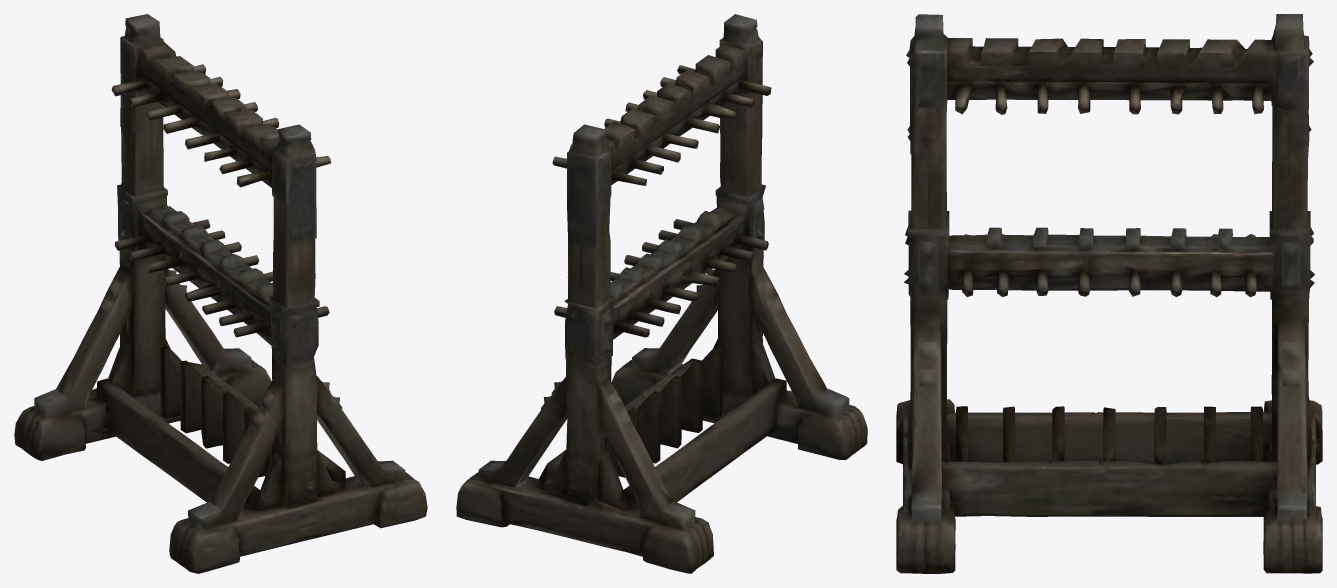
The model's file is empty-weapon-rack.glb.
3 renders of one model, left to right at view 1: azimuth 30°, elevation 25°; view 2: azimuth 150°, elevation 25°; view 3: azimuth 270°, elevation 25°, orthographic. The views are drawn at different scales.
Visible parts, largest first — view 1: tripo_node_79a97849-02a7-40db-ab69-7cb2ae6e792a; view 2: tripo_node_79a97849-02a7-40db-ab69-7cb2ae6e792a; view 3: tripo_node_79a97849-02a7-40db-ab69-7cb2ae6e792a.
Part boxes in pixels (x1,y1,x2,y2): tripo_node_79a97849-02a7-40db-ab69-7cb2ae6e792a: (14,14,427,573); tripo_node_79a97849-02a7-40db-ab69-7cb2ae6e792a: (456,14,867,573); tripo_node_79a97849-02a7-40db-ab69-7cb2ae6e792a: (896,14,1322,573).
Size of the model in its own units: 0.6041 by 1 by 0.7955.
1 material, 1 textured.
